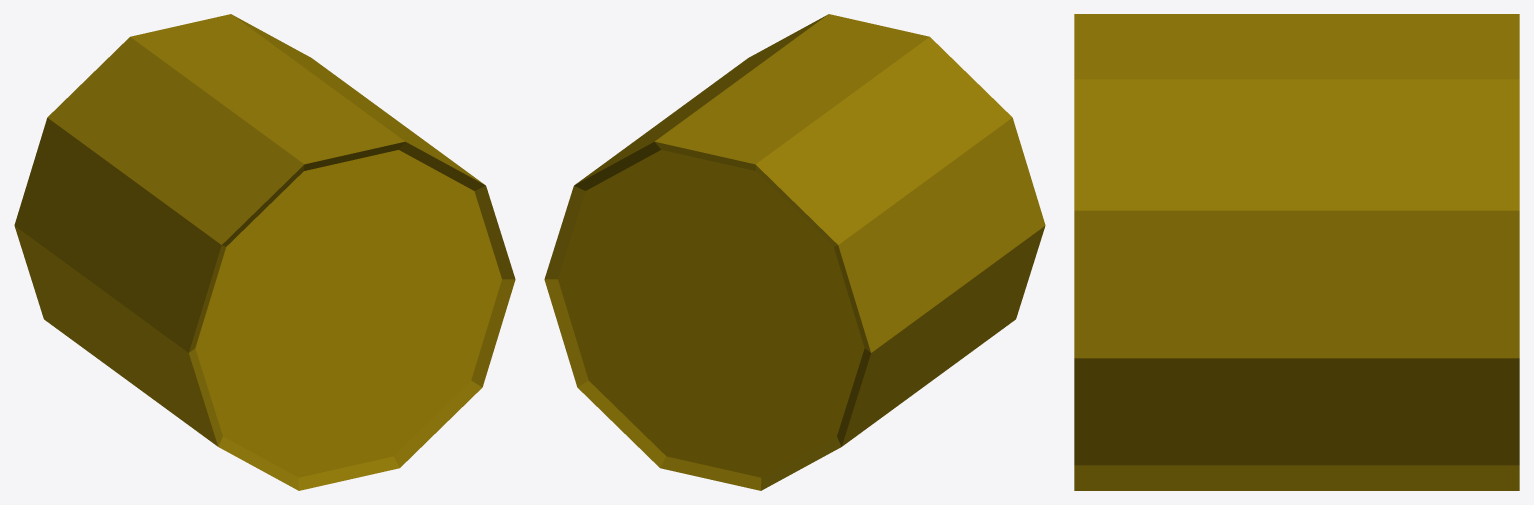
File: hay_export.fbx
3 views of the same model, side by side, from view 1: azimuth 30°, elevation 25°; view 2: azimuth 150°, elevation 25°; view 3: azimuth 270°, elevation 25° (orthographic). The views are drawn at different scales.
Visible parts, largest first — view 1: Cylinder.001; view 2: Cylinder.001; view 3: Cylinder.001.
Part boxes in pixels (bbox=[...]): Cylinder.001: bbox=[14, 14, 515, 490]; Cylinder.001: bbox=[544, 14, 1045, 490]; Cylinder.001: bbox=[1074, 14, 1519, 490].
Size of the model in its own units: 338 by 323 by 312.
